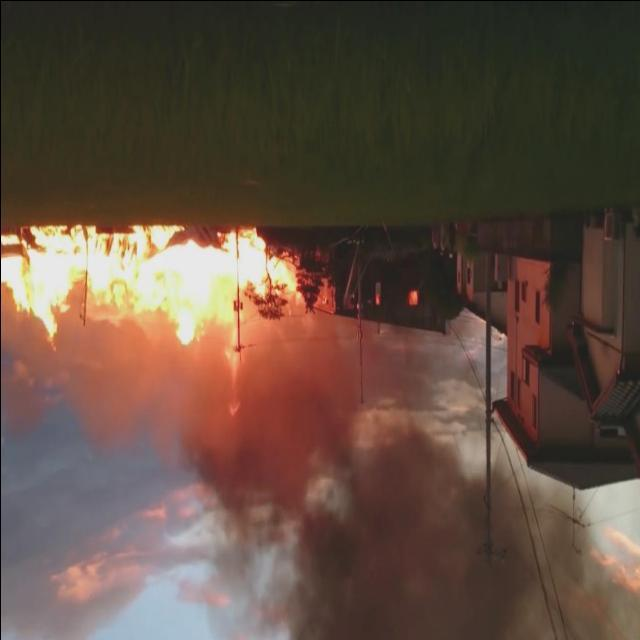Fire: (2, 225, 302, 414), (408, 289, 418, 307), (373, 294, 379, 306)
